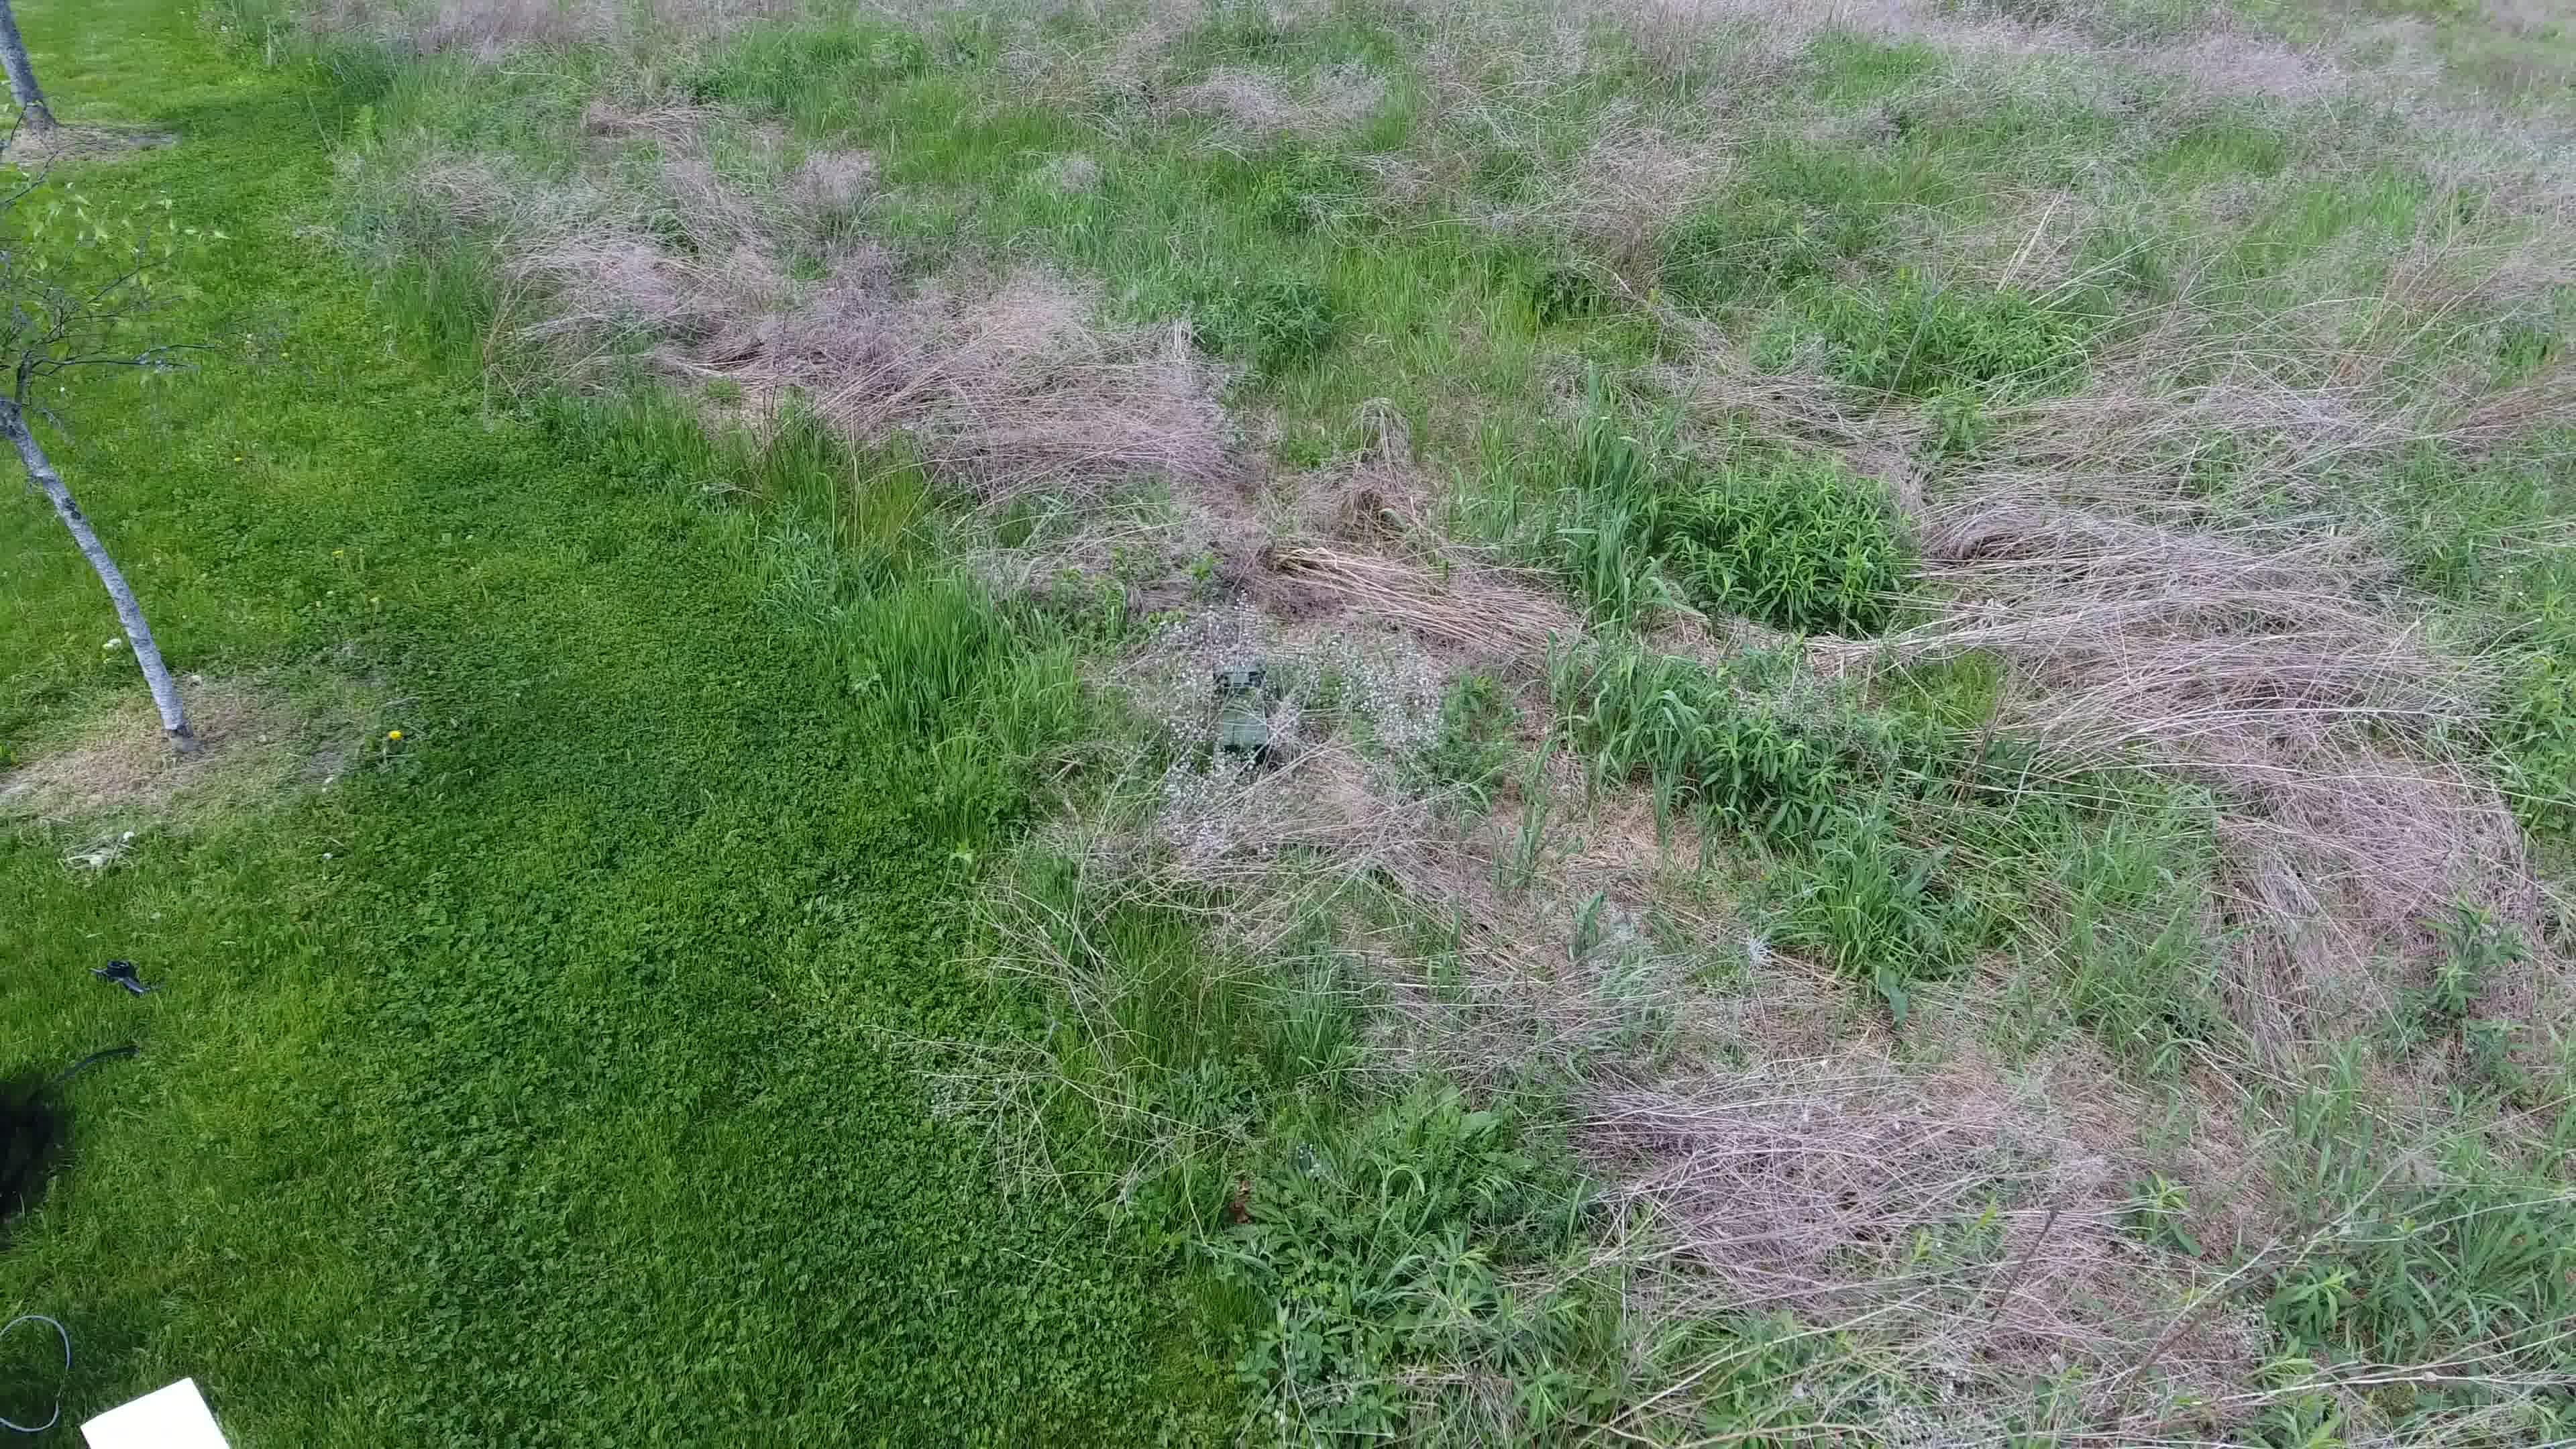transporter9: (1207, 656, 1272, 759)
